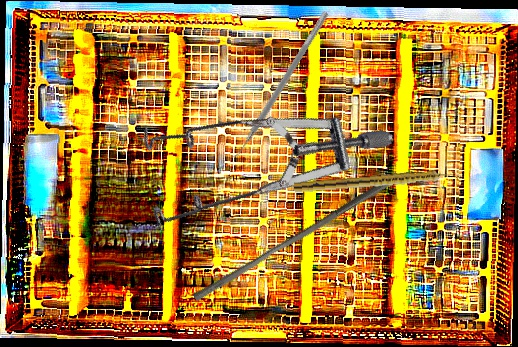Handpiece: (293, 167, 459, 197)
Pusher: (191, 167, 398, 309)
Spatula Surgical: (226, 6, 330, 166)
Speculum: (111, 44, 396, 298)
